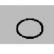no answer: (9, 13, 47, 41)
